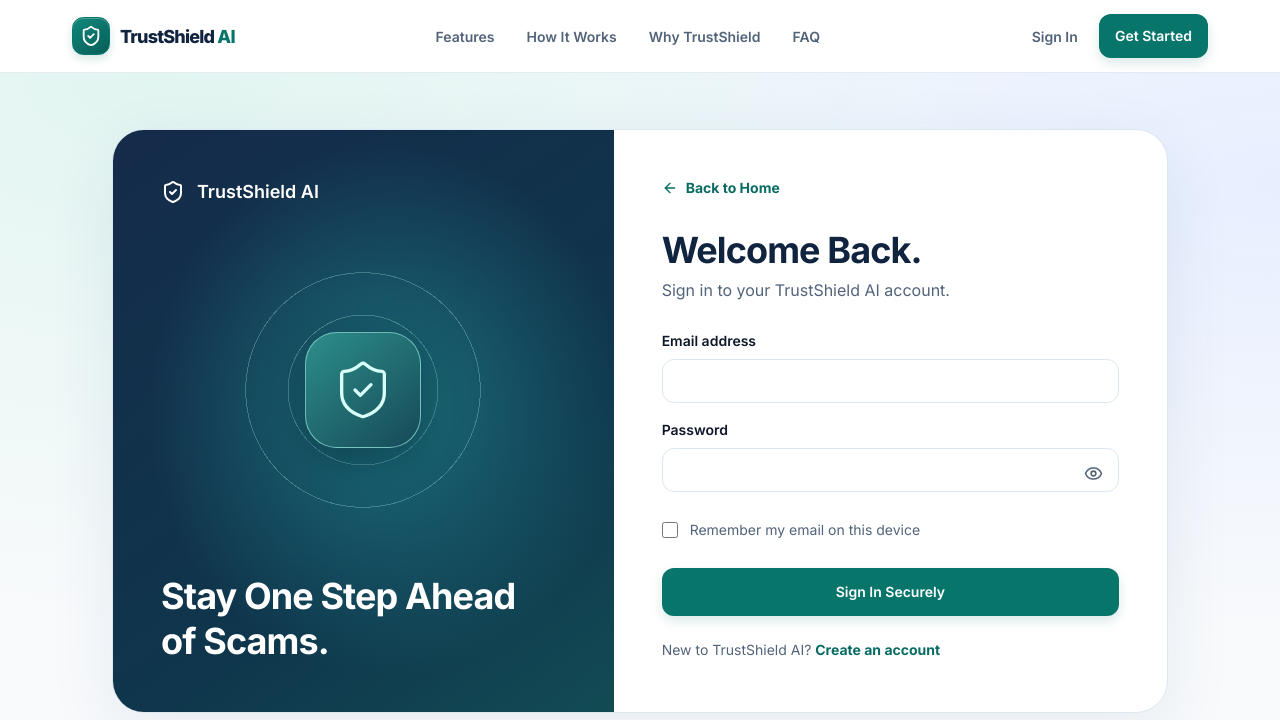
Test case: TrustShield authentication UI › validates login fields and keeps passwords hidden until requested
Later steps or results of the test are not shown.
Click the button "Sign In Securely" at (890, 592), box [662,568,1119,616]
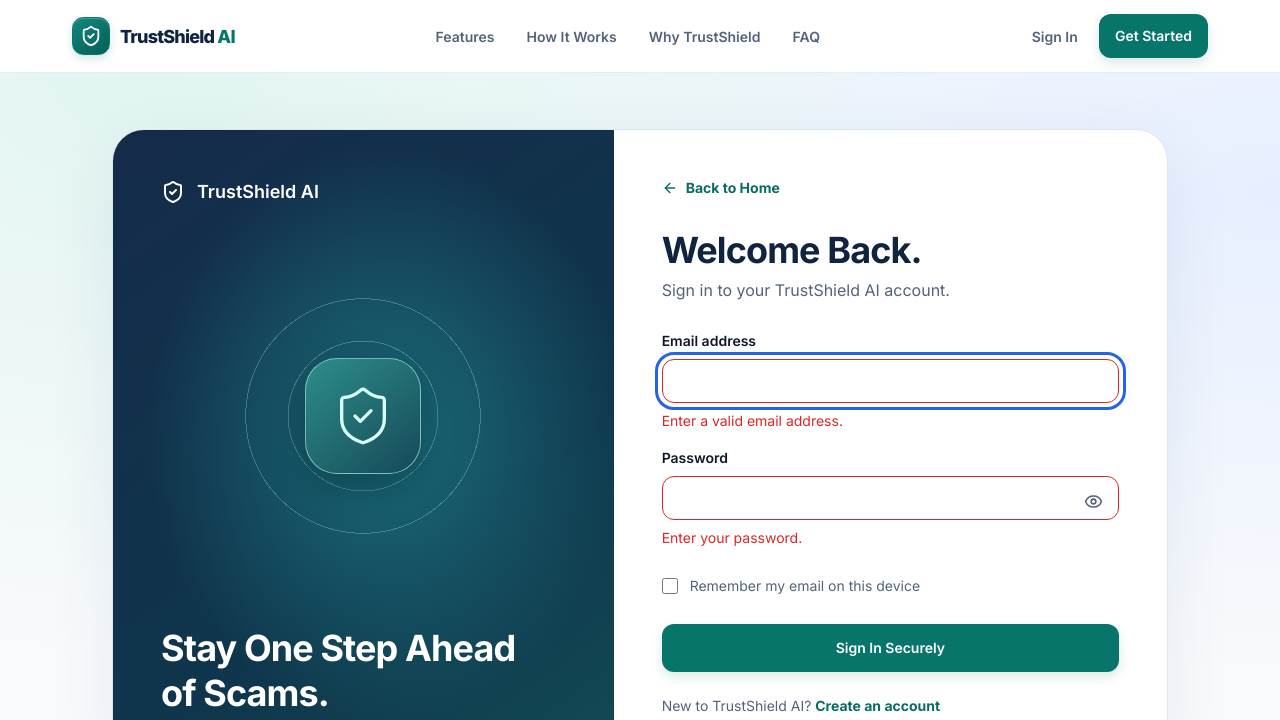
Expected: the text "Enter a valid email address." is shown, [662,412,843,429]
Expected: the text "Enter your password." is shown, [662,529,802,546]
